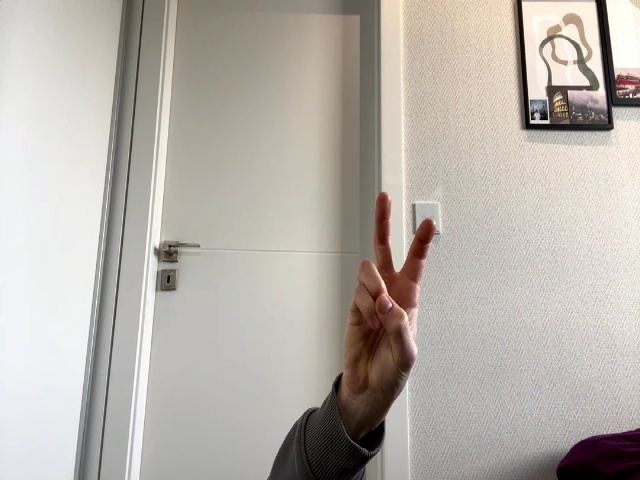H: (343, 192, 435, 404)
